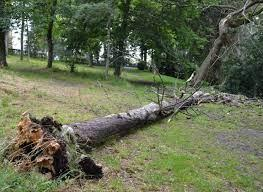Downstairs: (16, 90, 202, 181)
